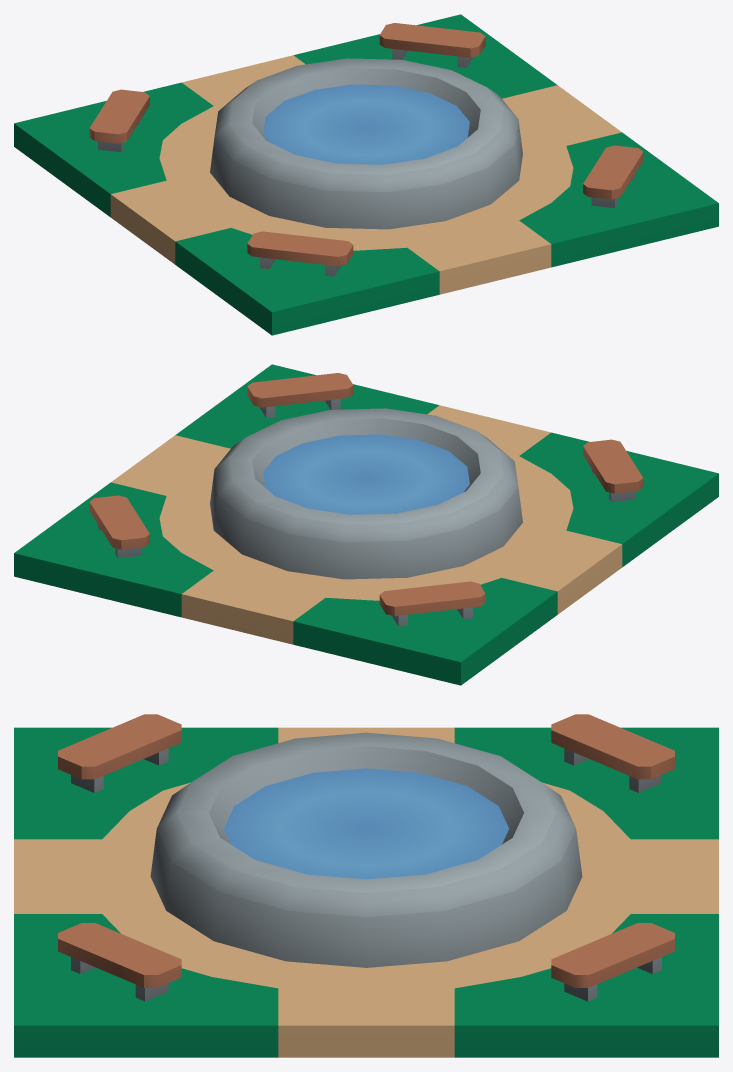
File: park_road_junction_decorated_C.glb
The picture shows the model from 3 angles, top to bottom: view 1: azimuth 30°, elevation 25°; view 2: azimuth 150°, elevation 25°; view 3: azimuth 270°, elevation 25°; orthographic projection. The views are drawn at different scales.
Visible parts, largest first — view 1: park_road_junction_decorated_C; view 2: park_road_junction_decorated_C; view 3: park_road_junction_decorated_C.
Part boxes in pixels (<box>): park_road_junction_decorated_C: <box>14,14,718,335</box>; park_road_junction_decorated_C: <box>14,364,718,685</box>; park_road_junction_decorated_C: <box>14,714,718,1057</box>.
Size of the model in its own units: 2 by 0.2999 by 2.
Materials: 1 (1 with a texture image).
